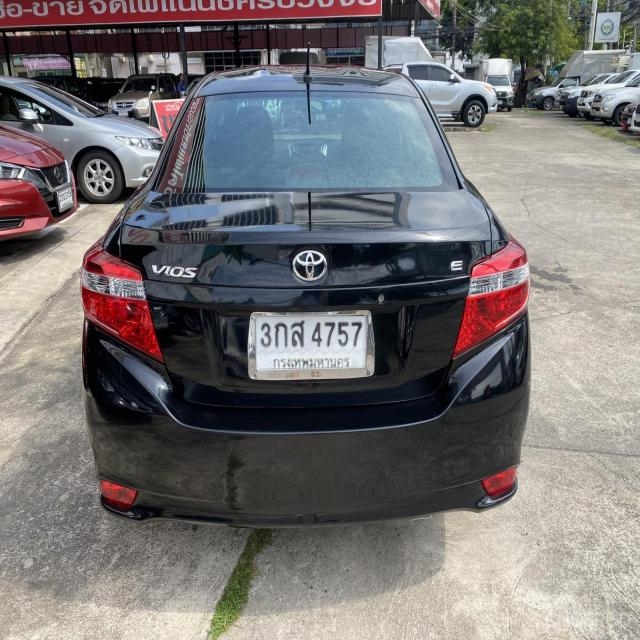license_plate: (248, 308, 380, 382), (56, 186, 76, 217)
